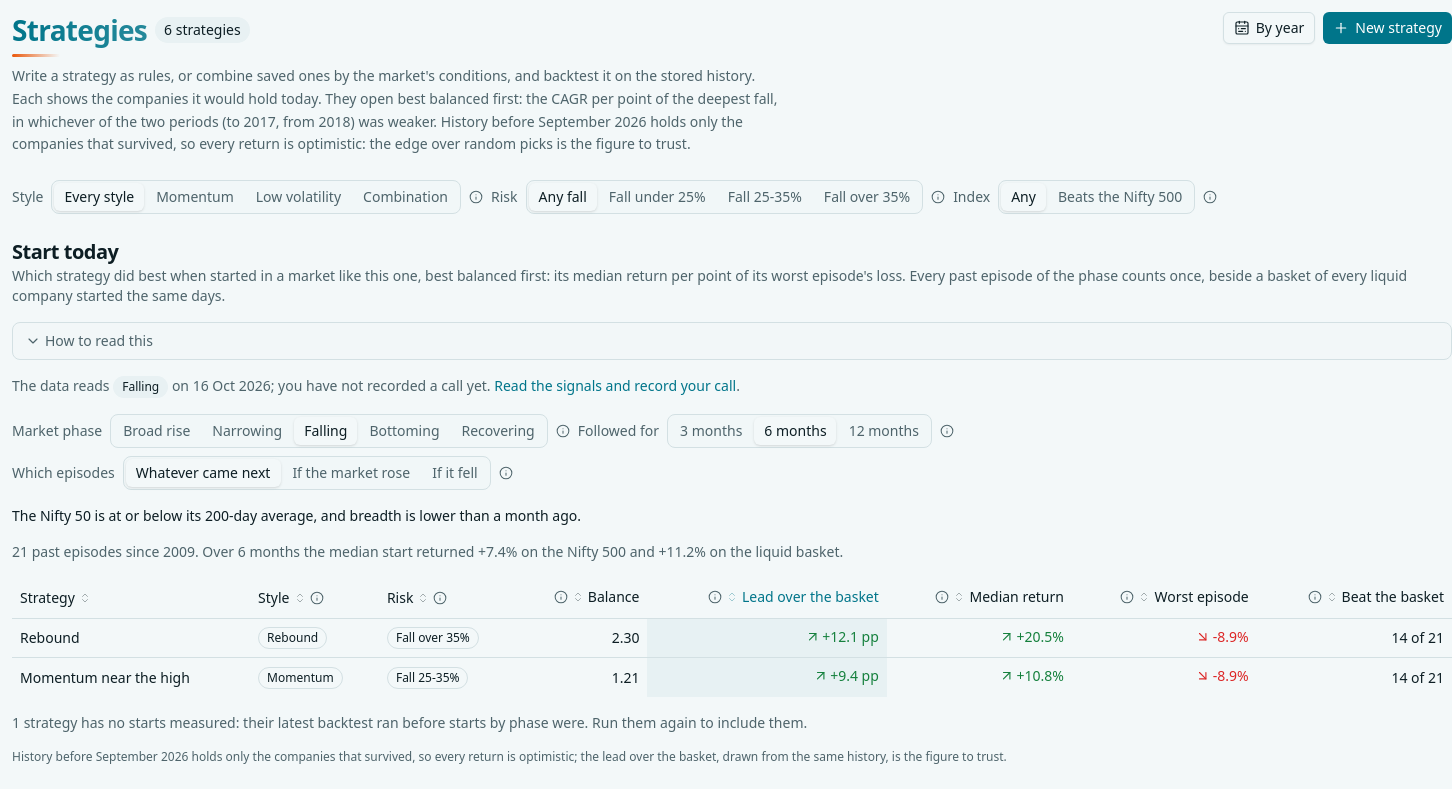
Strategies › filters the list and Start today by style and by risk, in the address
Click the button "Low volatility".
click(298, 197)  # box x1=246 y1=183 x2=351 y2=211
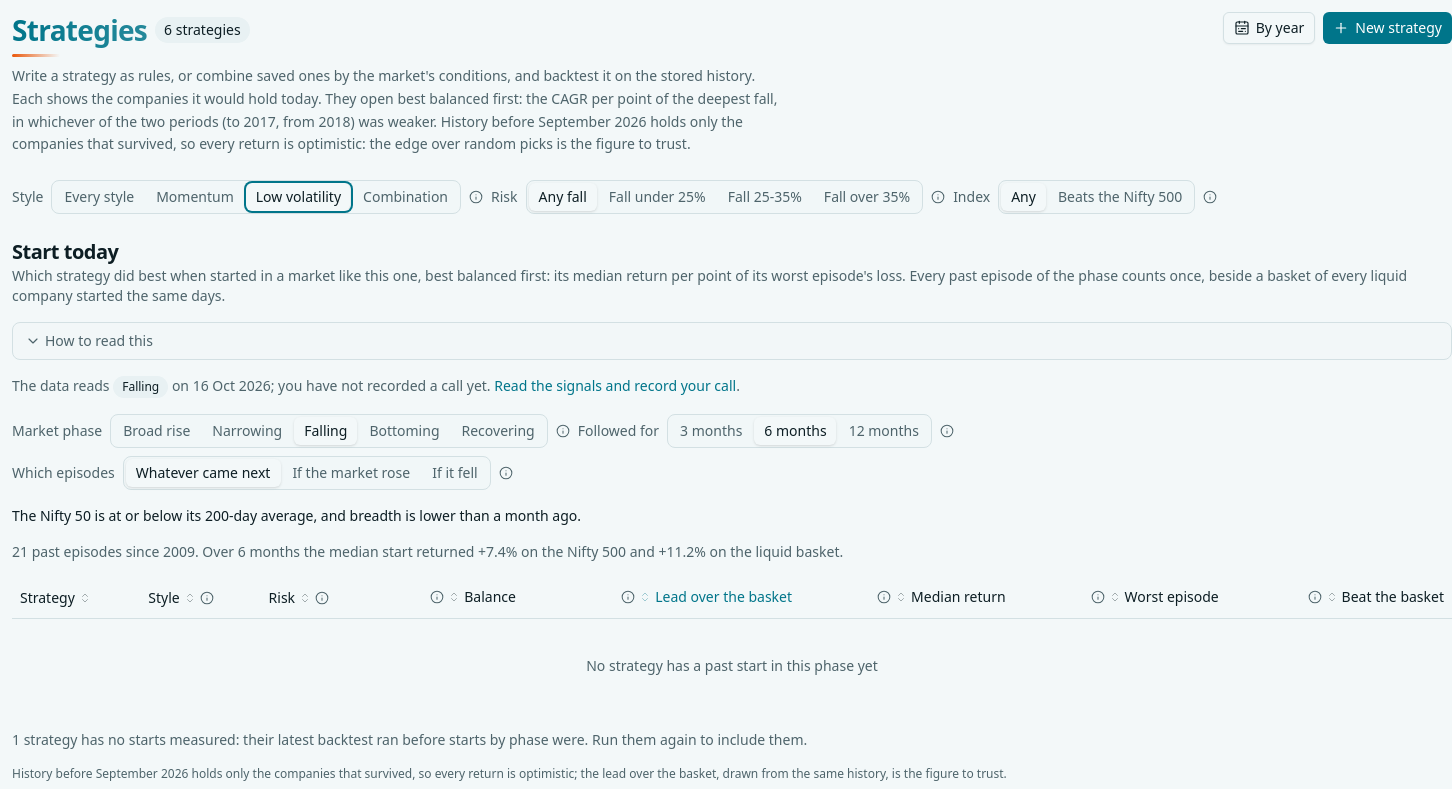
Click the button "Every style".
click(99, 197)  # box x1=54 y1=183 x2=144 y2=211
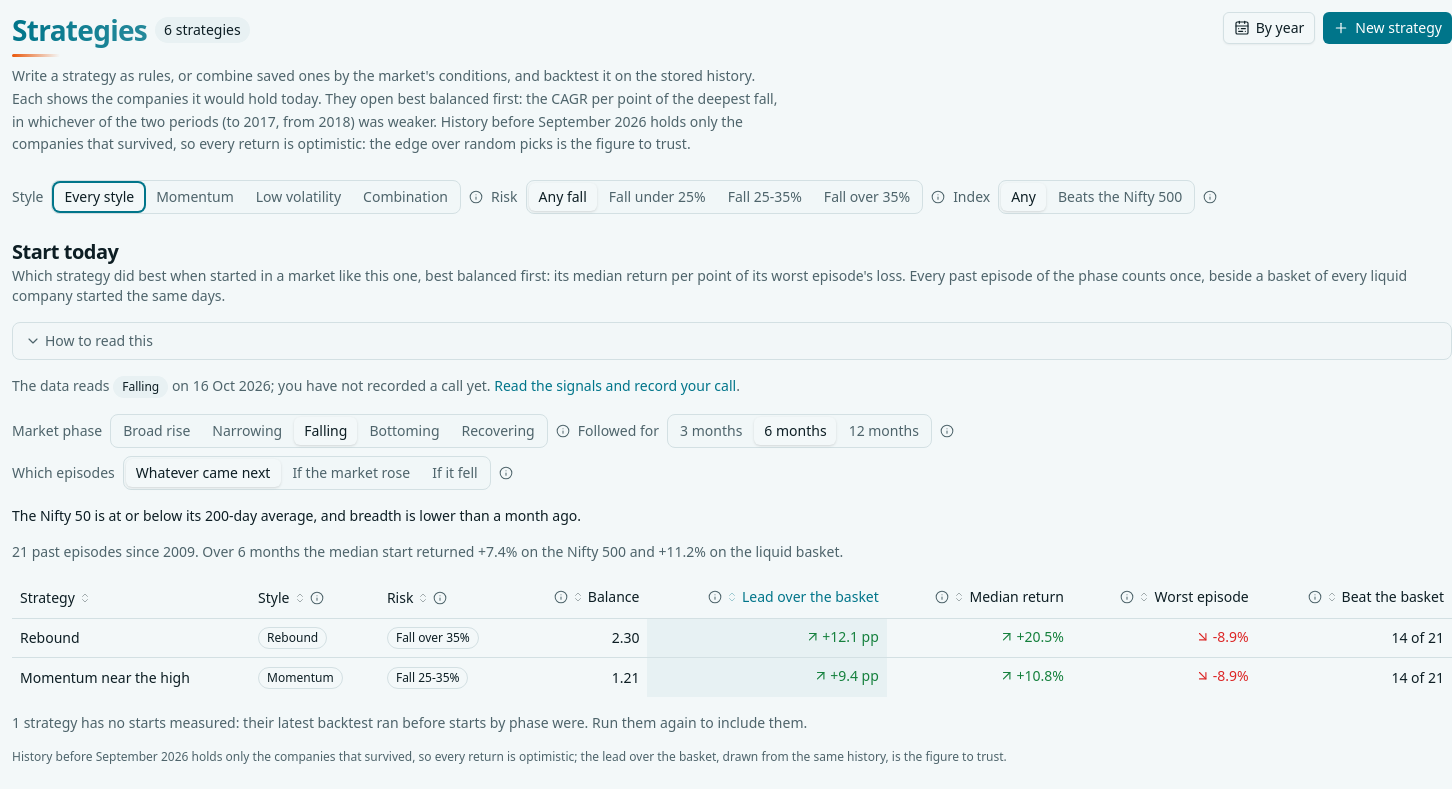
Click the button "Fall over 35%".
click(867, 197)  # box x1=814 y1=183 x2=920 y2=211
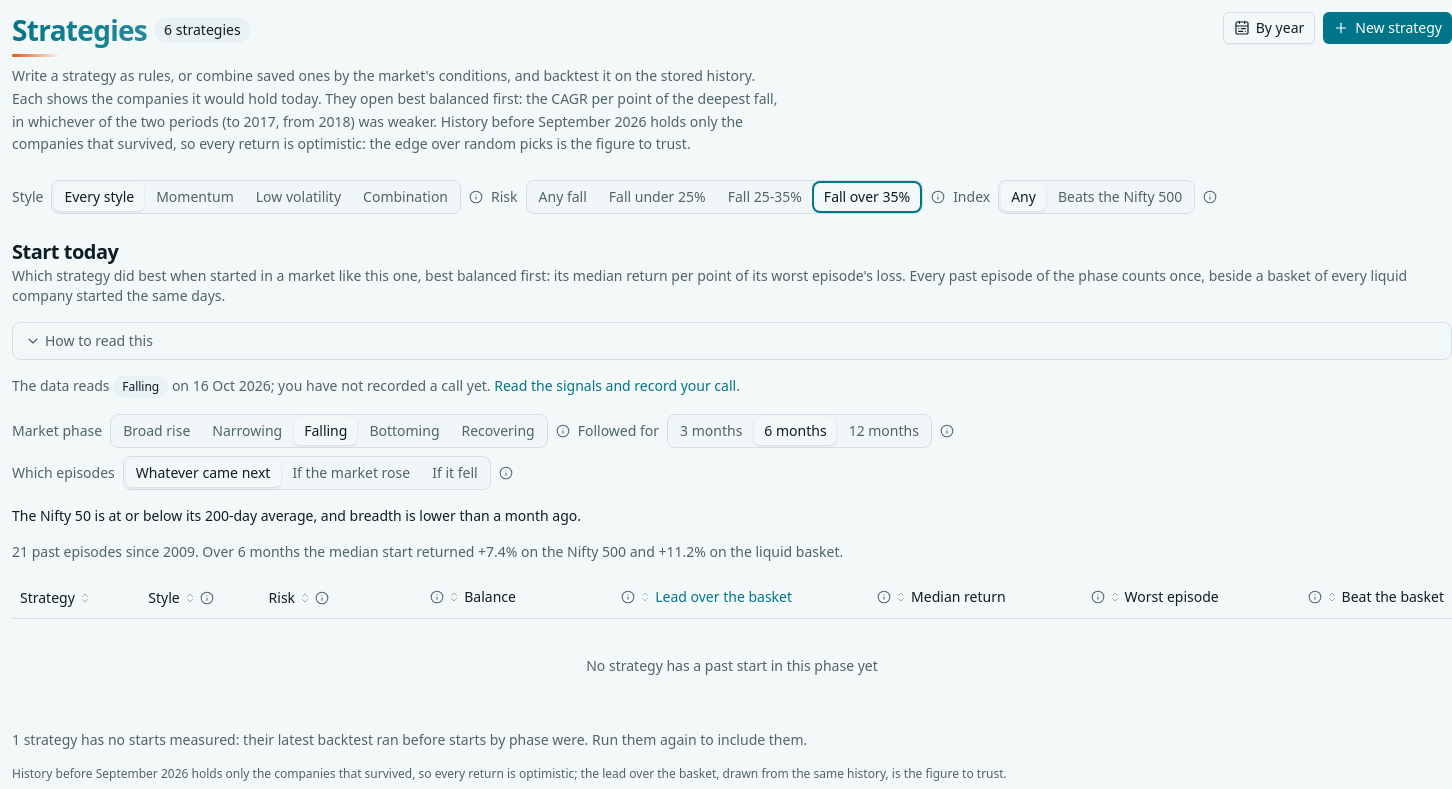
Result: no the link "Rebound" are shown
